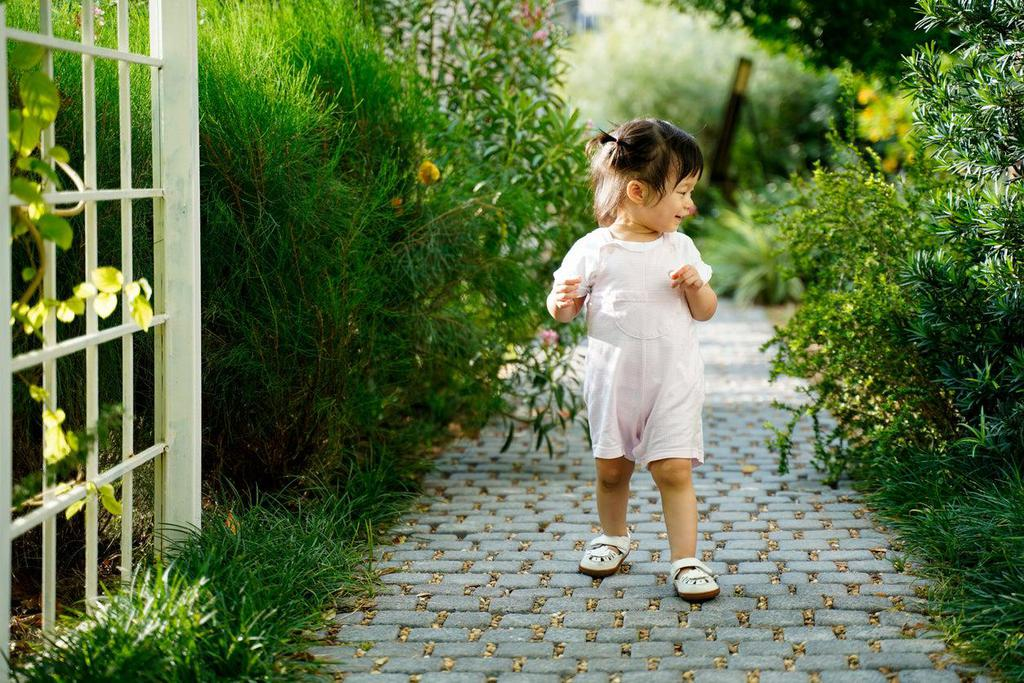child: (506, 105, 759, 603)
